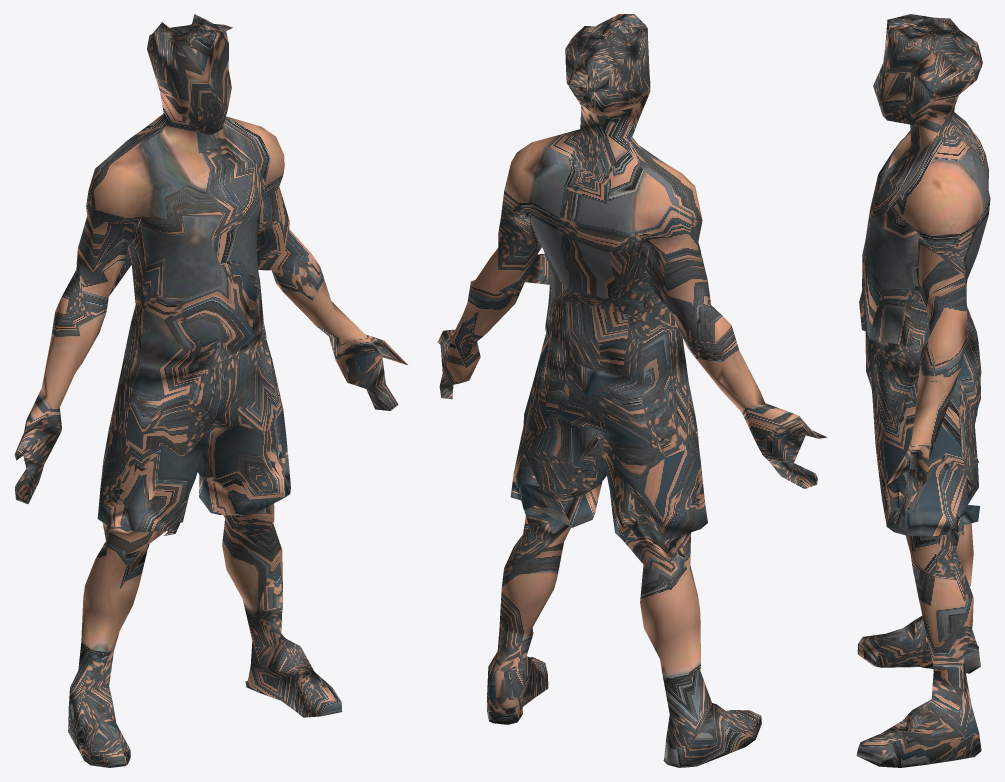
File: aura_hoops_3d_blacktopFanB.20b94d34.glb
3 views of the same model, side by side, from view 1: azimuth 30°, elevation 25°; view 2: azimuth 150°, elevation 25°; view 3: azimuth 270°, elevation 25° (orthographic).
Bounding box in the file's own units: 1.1 × 1.88 × 0.3318.
Materials: 1 (1 with a texture image).
